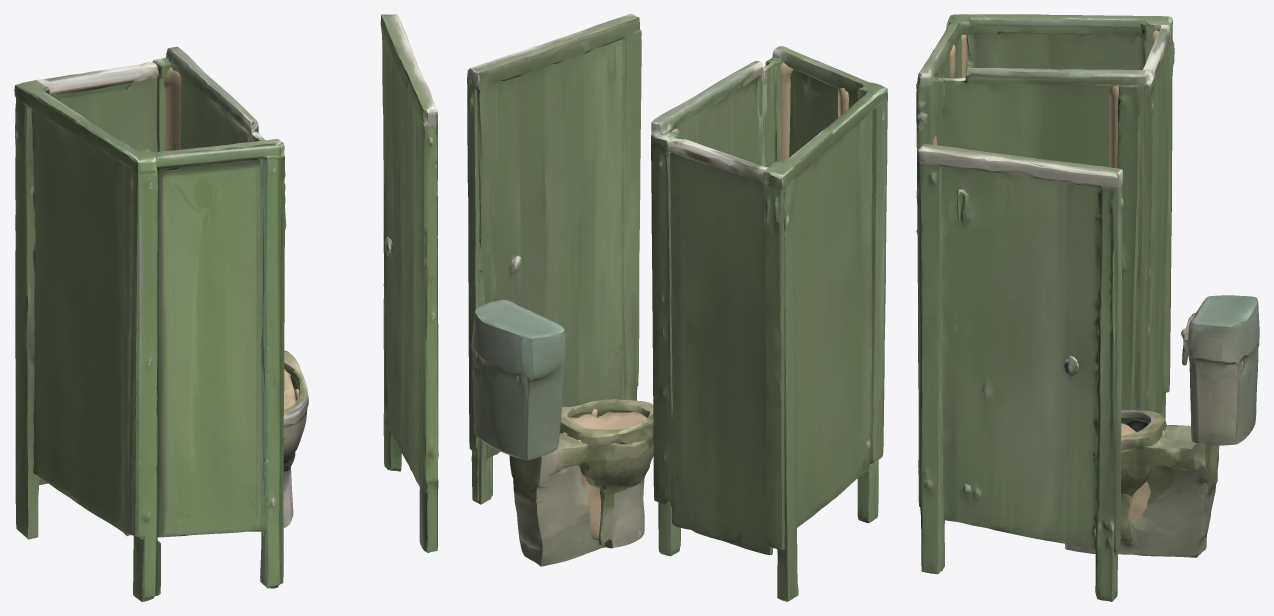
The model's file is stall_chunks.glb.
The picture shows the model from 3 angles, left to right: view 1: azimuth 30°, elevation 25°; view 2: azimuth 150°, elevation 25°; view 3: azimuth 270°, elevation 25°; orthographic projection. The views are drawn at different scales.
Visible parts, largest first — view 1: chunk3_shell, chunk0_shell, chunk2_shell, chunk1_shell, chunk3_core; view 2: chunk3_shell, chunk2_shell, chunk0_shell, chunk5_shell, chunk4_shell, chunk1_shell, chunk3_core, chunk1_core, chunk4_core; view 3: chunk0_shell, chunk3_shell, chunk2_shell, chunk5_shell, chunk1_shell, chunk4_shell, chunk3_core, chunk4_core.
Boxes of the visible parts, x1,y1,x2,y2 form: chunk3_shell: (14, 47, 285, 576); chunk0_shell: (286, 190, 438, 552); chunk2_shell: (285, 14, 437, 297); chunk1_shell: (133, 350, 301, 601); chunk3_core: (31, 67, 181, 478); chunk3_shell: (651, 46, 887, 601); chunk2_shell: (467, 14, 660, 459); chunk0_shell: (468, 198, 640, 504); chunk5_shell: (472, 367, 593, 566); chunk4_shell: (559, 437, 726, 556); chunk1_shell: (473, 358, 878, 530); chunk3_core: (672, 62, 848, 549); chunk1_core: (562, 412, 646, 445); chunk4_core: (577, 439, 605, 542); chunk0_shell: (918, 318, 1239, 601); chunk3_shell: (916, 14, 1174, 418); chunk2_shell: (916, 143, 1259, 401); chunk5_shell: (1139, 371, 1256, 557); chunk1_shell: (918, 368, 1243, 552); chunk4_shell: (1088, 399, 1177, 555); chunk3_core: (933, 30, 1158, 168); chunk4_core: (1129, 425, 1167, 521).
Bounding box in the file's own units: 1.6 × 2 × 1.4.
1 material, 1 textured.
